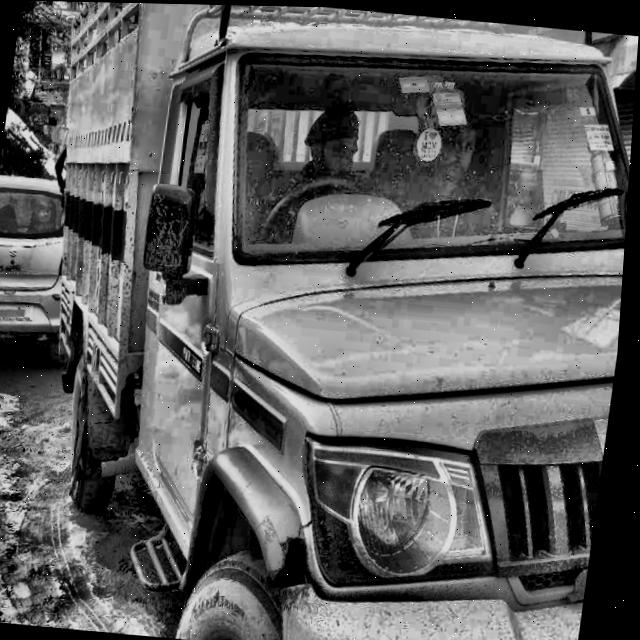light_vehicle: (75, 2, 640, 640)
